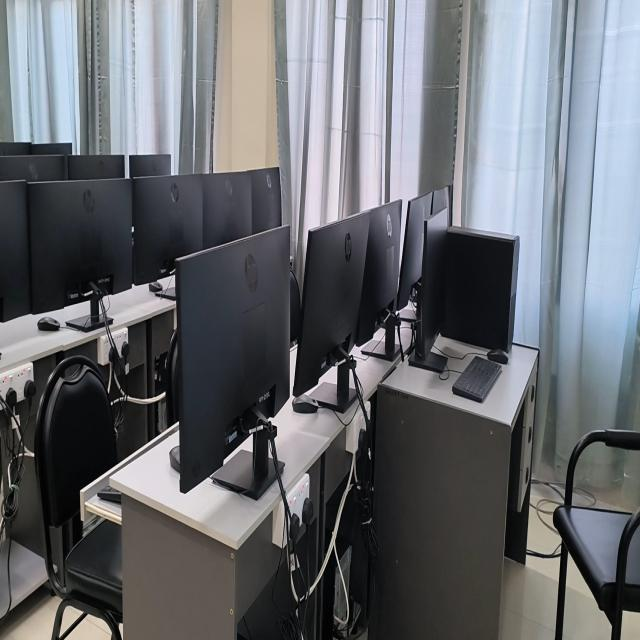Chair: (34, 356, 122, 639), (553, 430, 640, 639), (166, 329, 178, 425), (290, 267, 301, 347)
Cpu: (440, 226, 519, 352), (323, 519, 352, 639)
Keyboard: (452, 356, 502, 402)
Monitor: (176, 226, 290, 500), (28, 180, 132, 332), (294, 211, 369, 410), (133, 175, 202, 285), (358, 200, 404, 360), (409, 207, 448, 373), (0, 180, 31, 321), (397, 196, 433, 306), (202, 172, 251, 248), (248, 168, 282, 233), (0, 155, 66, 182), (68, 155, 124, 180), (129, 154, 171, 178), (431, 183, 452, 223), (31, 143, 72, 155), (0, 142, 31, 155)
Mouse: (293, 395, 318, 413), (37, 316, 60, 331), (487, 349, 508, 364), (170, 446, 179, 472), (149, 281, 163, 293)
